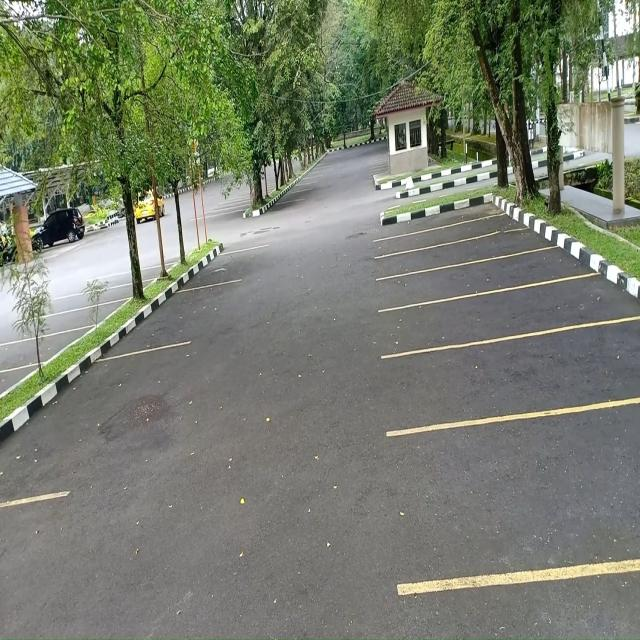empty: (430, 410, 640, 574), (56, 348, 158, 498), (443, 333, 640, 410), (450, 284, 625, 334), (154, 282, 228, 348), (456, 247, 560, 293), (197, 248, 261, 284), (12, 334, 60, 368), (52, 305, 108, 329), (85, 284, 132, 305)
